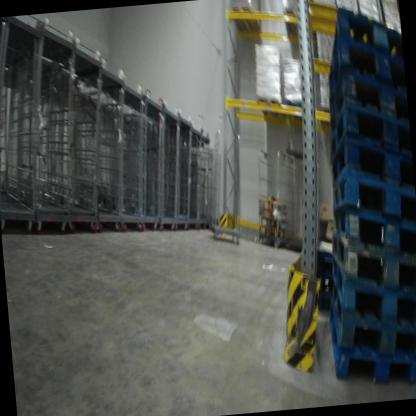pallet: (323, 290, 416, 393), (317, 1, 403, 105), (330, 241, 416, 333), (324, 59, 409, 144), (327, 125, 414, 207), (318, 35, 400, 117), (324, 97, 407, 178), (328, 222, 416, 297), (331, 201, 416, 278), (329, 169, 415, 244), (332, 281, 416, 356), (229, 2, 317, 42), (283, 94, 316, 129), (256, 90, 287, 127)
